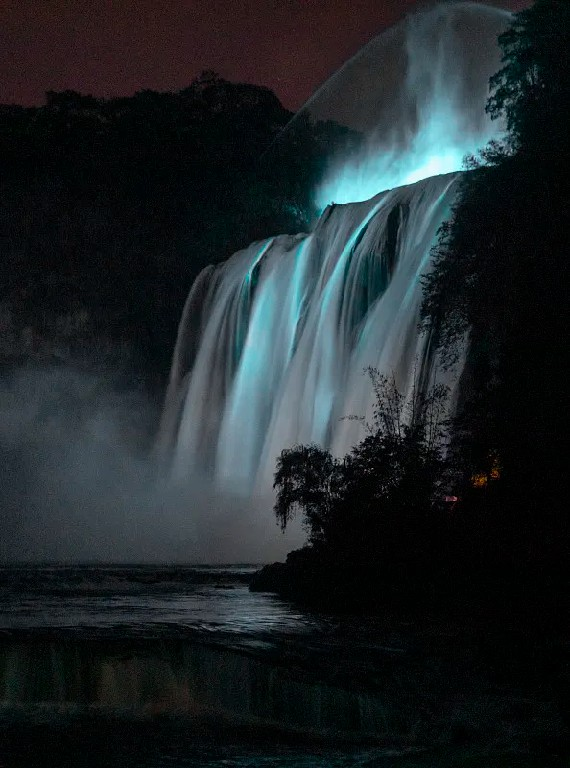Huangguoshu: (153, 172, 466, 498)
